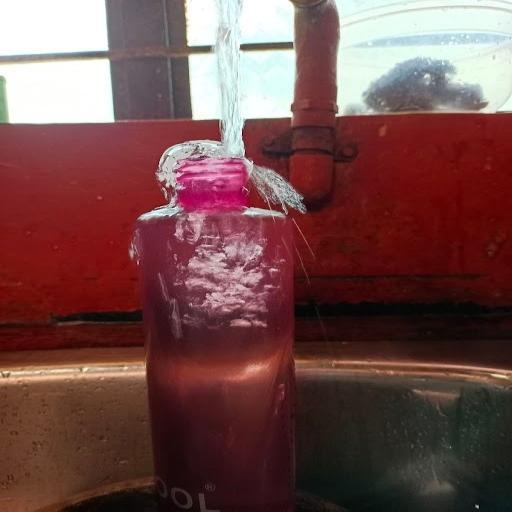bottle: (130, 143, 316, 502)
